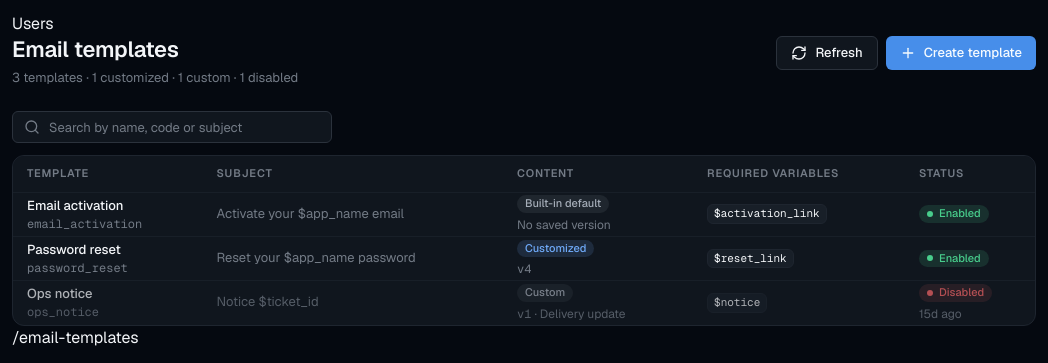
Test case: EmailTemplatesPage › filters locally and explains an empty search
In the search field labelled "Search by name, code or subject": (172, 127) [12,111,332,143], type "reset"
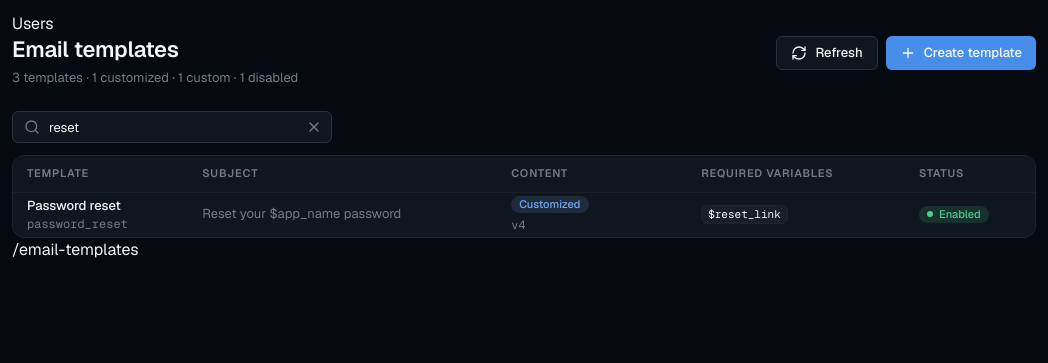
expect the link "Password reset" is shown: met, box [27,197,121,214]
expect the link "Email activation" is gone: met
Replace the text in the search field named "Search by name, code or subject" with "zzz": (172, 127) [12,111,332,143]
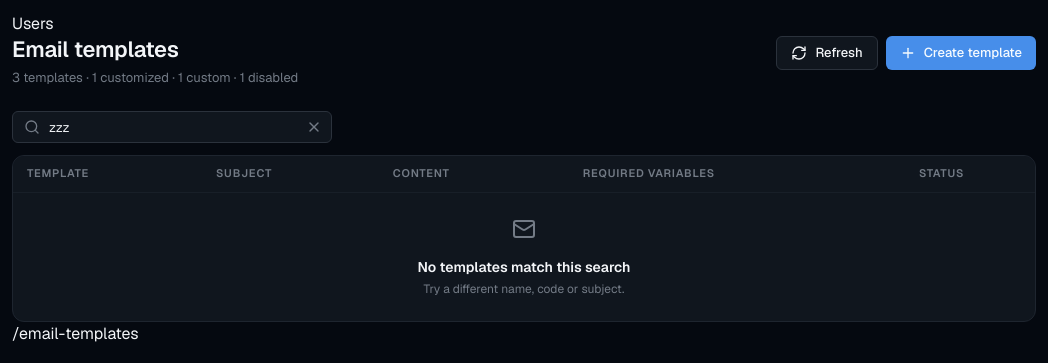
expect the heading "No templates match this search" is shown: met, box [418,256,630,276]
